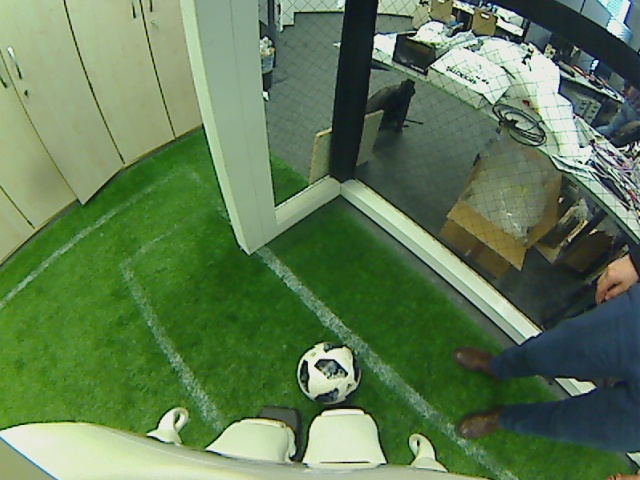ball: (294, 339, 362, 405)
